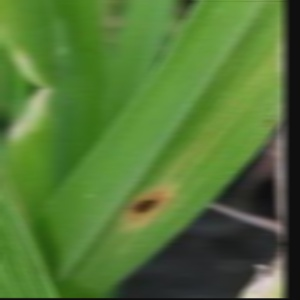Bacterial_Leaf_Blight: (124, 189, 170, 218)
